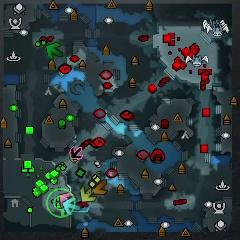x1: (59, 192, 72, 207)
x1Clone: (70, 146, 82, 159)
x2: (80, 186, 96, 203)
x3: (63, 198, 80, 215)
x4: (46, 42, 62, 59)
x5: (92, 179, 108, 194)
